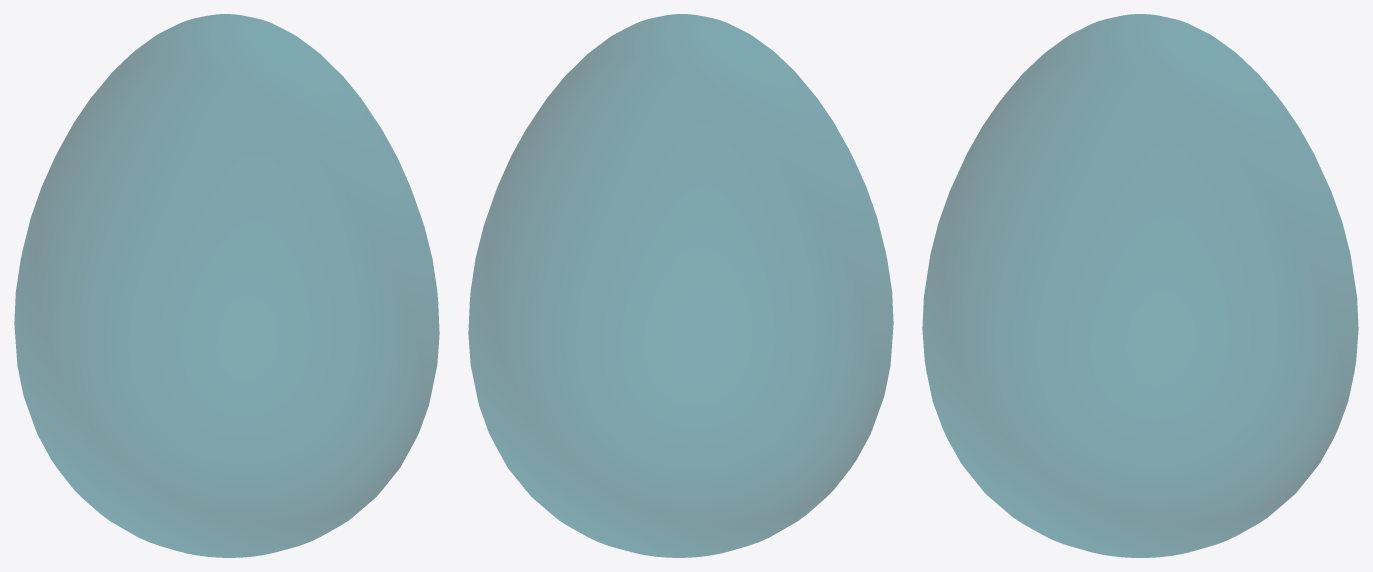
Rendered from ovo.gltf.
3 views of the same model, side by side, from view 1: azimuth 30°, elevation 25°; view 2: azimuth 150°, elevation 25°; view 3: azimuth 270°, elevation 25° (orthographic).
Parts seen in each view (by area): view 1: ovo; view 2: ovo; view 3: ovo.
Part boxes in pixels (x1,y1,x2,y2): ovo: (14,14,439,557); ovo: (468,14,893,557); ovo: (922,14,1358,557).
Bounding box in the file's own units: 8.71 × 11.7 × 8.99.
